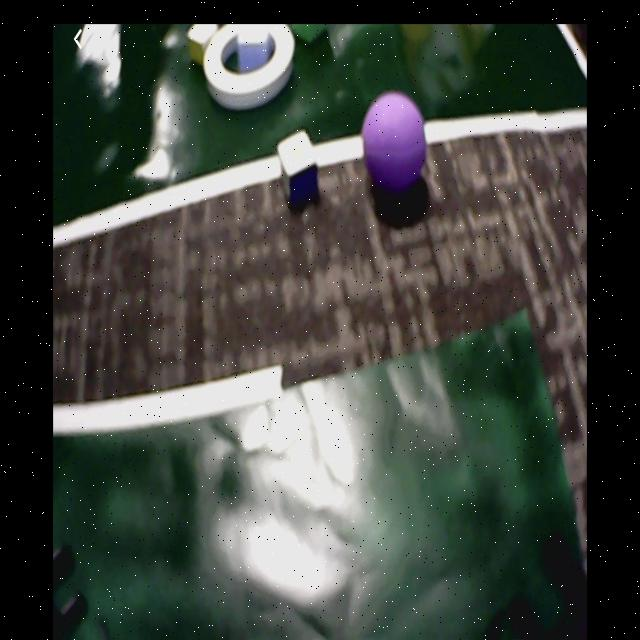ball: (364, 94, 428, 193)
